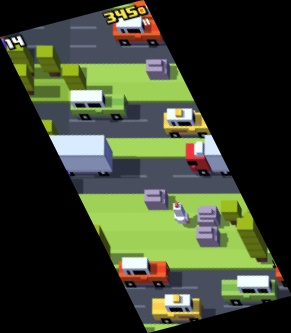car: (70, 91, 128, 122), (222, 275, 278, 307), (162, 108, 215, 140), (112, 16, 165, 47), (117, 257, 170, 288), (153, 295, 204, 323), (273, 262, 291, 287)
duck: (172, 203, 190, 226)
rock: (196, 222, 219, 248), (145, 59, 171, 81), (142, 188, 167, 210), (195, 204, 220, 226)
tree: (237, 218, 268, 264), (84, 225, 112, 266), (7, 41, 34, 73), (62, 64, 89, 96), (35, 45, 61, 76), (9, 64, 35, 95), (35, 118, 58, 148), (222, 200, 241, 223)
truck: (35, 135, 113, 177), (186, 135, 262, 176)
